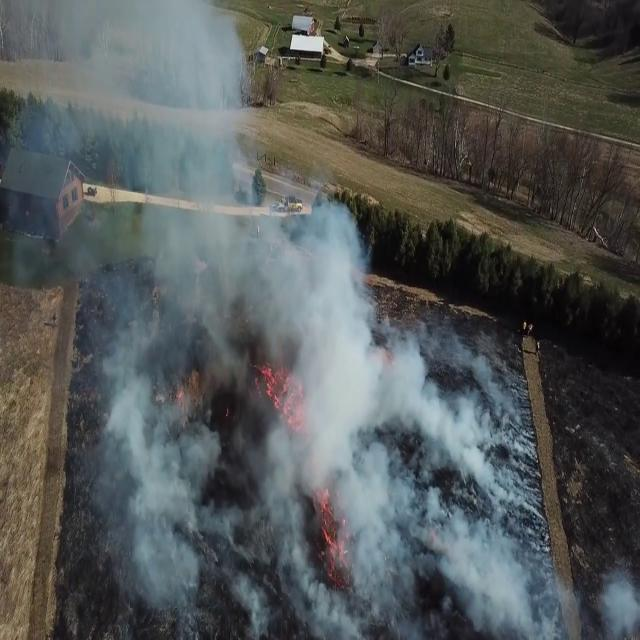Smoke: (31, 4, 468, 634), (450, 518, 640, 640)
